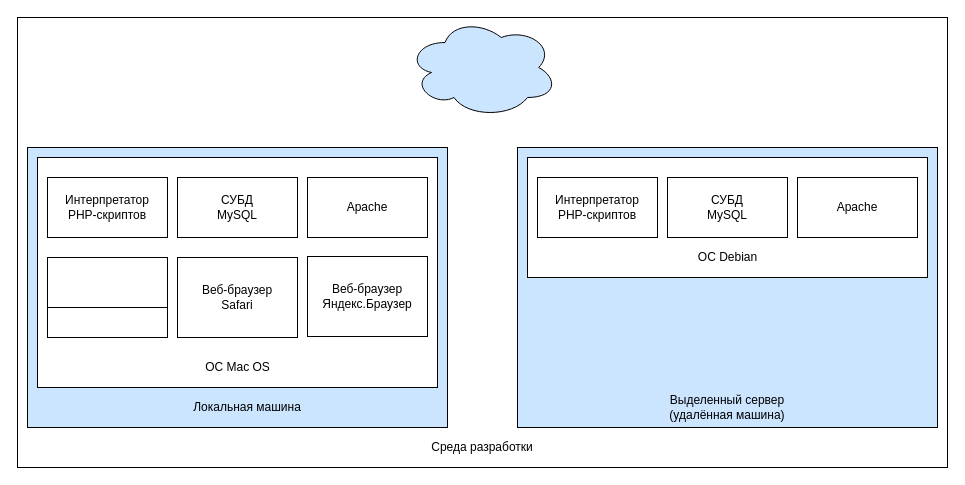
The diagram is 965 pixels wide and 485 high, and some of its shapes have lost their labels. Each missing label, with the box of its shape:
git: (46, 306, 168, 338)
GitHub: (406, 16, 558, 118)
MS Visual Code: (46, 256, 168, 308)
